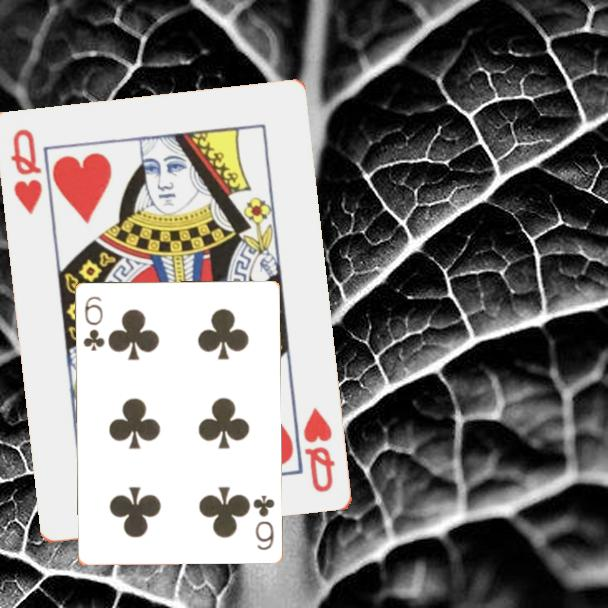c06: (250, 491, 277, 553), (80, 292, 107, 353)
h12: (300, 404, 339, 496), (8, 126, 46, 218)
